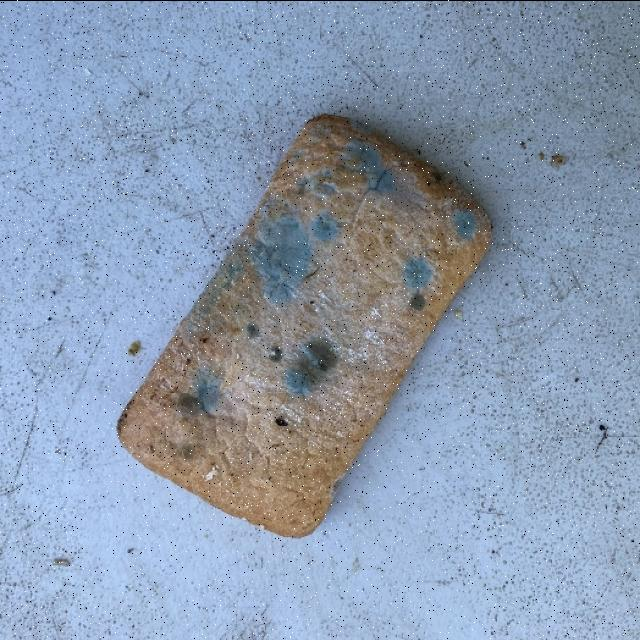organik: (118, 90, 494, 550)
